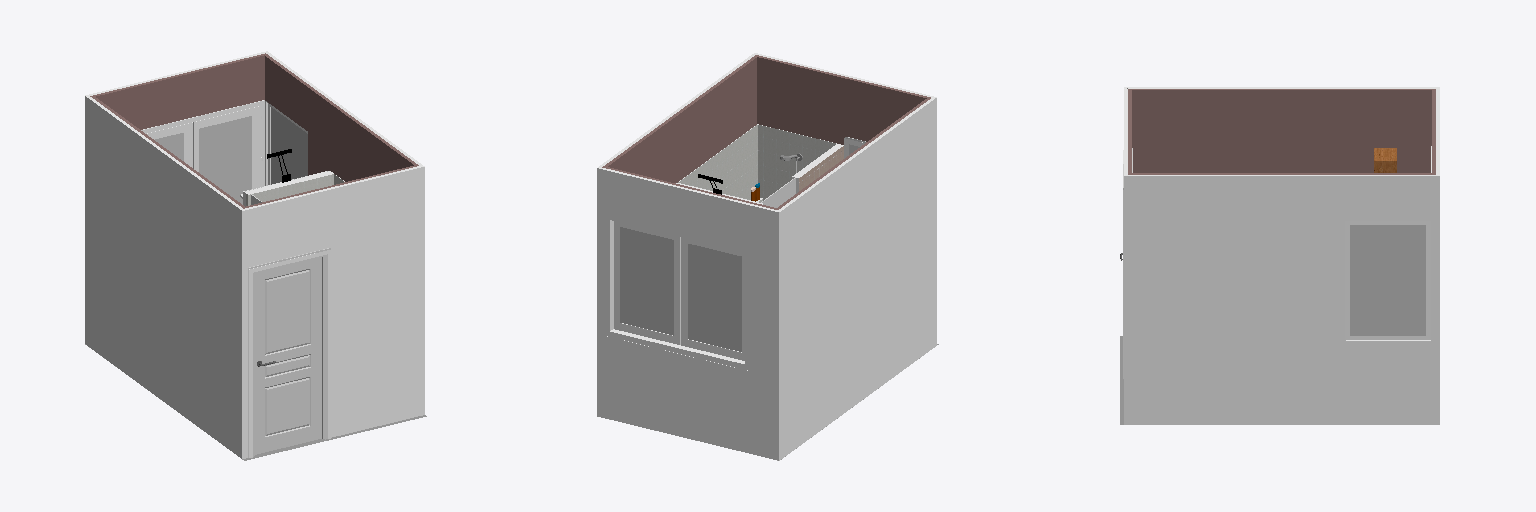
3 views of the same model, side by side, from view 1: azimuth 30°, elevation 25°; view 2: azimuth 150°, elevation 25°; view 3: azimuth 270°, elevation 25° (orthographic).
Visible parts, largest first — view 1: wall_4_22, wall_3_16, sweethome3d_opening_on_hinge_1_door_158, wall_2_11, wall_1_5, sweethome3d_window_pane_on_hinge_2_107, sweethome3d_window_pane_110, frame_door_Cube_154, Montant_153, sweethome3d_opening_on_hinge_2_106, frame_95, wall_5_29 (+1 smaller); view 2: wall_4_22, wall_1_4, wall_3_17, wall_2_11, sweethome3d_window_pane_on_hinge_2_107, sweethome3d_window_pane_on_hinge_1_102, frame_95, wall_14_82, wall_15_88, sweethome3d_opening_on_hinge_2_106, sweethome3d_opening_on_hinge_1_101, wall_10_58; view 3: wall_2_10, wall_4_23, sweethome3d_window_pane_110, Fenetre_1_109, wall_4_24, wall_2_13.
Boxes of the visible parts, <box> form: wall_4_22: <box>85,96,241,458</box>; wall_3_16: <box>242,167,424,458</box>; sweethome3d_opening_on_hinge_1_door_158: <box>255,258,321,454</box>; wall_2_11: <box>265,56,413,181</box>; wall_1_5: <box>96,55,264,129</box>; sweethome3d_window_pane_on_hinge_2_107: <box>199,116,251,204</box>; sweethome3d_window_pane_110: <box>271,107,307,184</box>; frame_door_Cube_154: <box>248,248,330,457</box>; Montant_153: <box>249,249,331,457</box>; sweethome3d_opening_on_hinge_2_106: <box>193,106,260,188</box>; frame_95: <box>141,100,264,186</box>; wall_5_29: <box>246,174,333,205</box>; wall_4_22: <box>779,98,936,460</box>; wall_1_4: <box>597,168,778,460</box>; wall_3_17: <box>757,57,926,144</box>; wall_2_11: <box>608,58,756,183</box>; sweethome3d_window_pane_on_hinge_2_107: <box>620,227,673,335</box>; sweethome3d_window_pane_on_hinge_1_102: <box>688,244,741,351</box>; frame_95: <box>604,214,750,370</box>; wall_14_82: <box>758,125,835,200</box>; wall_15_88: <box>678,125,757,199</box>; sweethome3d_opening_on_hinge_2_106: <box>614,221,680,344</box>; sweethome3d_opening_on_hinge_1_101: <box>681,238,744,360</box>; wall_10_58: <box>799,146,843,190</box>; wall_2_10: <box>1124,176,1439,424</box>; wall_4_23: <box>1132,90,1431,172</box>; sweethome3d_window_pane_110: <box>1350,225,1425,335</box>; Fenetre_1_109: <box>1346,222,1430,339</box>; wall_4_24: <box>1125,87,1438,88</box>; wall_2_13: <box>1129,173,1434,174</box>.
Size of the model in its own units: 211 by 274 by 320.
43 materials, 4 textured.